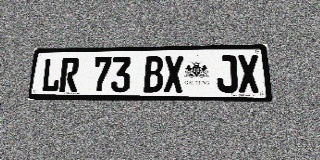3: (111, 57, 131, 93)
7: (91, 57, 112, 93)
B: (143, 56, 163, 93)
J: (216, 55, 238, 93)
L: (41, 58, 62, 92)
R: (59, 57, 80, 92)
X: (237, 55, 260, 93), (164, 56, 184, 93)
